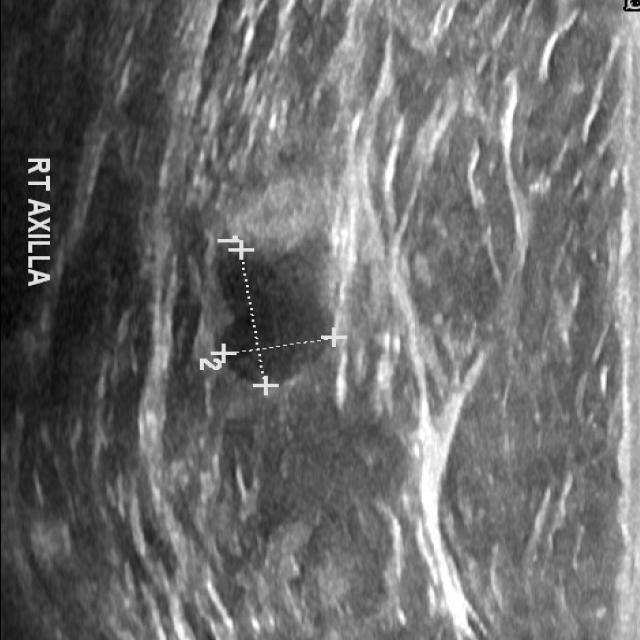Malignant: (202, 234, 341, 390)
